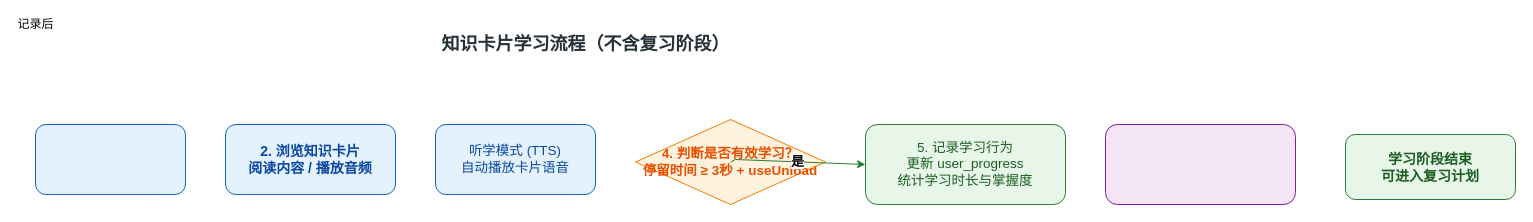
The diagram is 1533 pixels wide and 222 high, and some of its shapes have lost their labels. Here are the shapes that lost their labels. From the top down, the centre of each, then its label:
At (110,159): "1. 选择课程 进入课程卡片列表".
At (1200,164): "6. 可选进入测验 按卡片拉取题目 支持多种题型".
